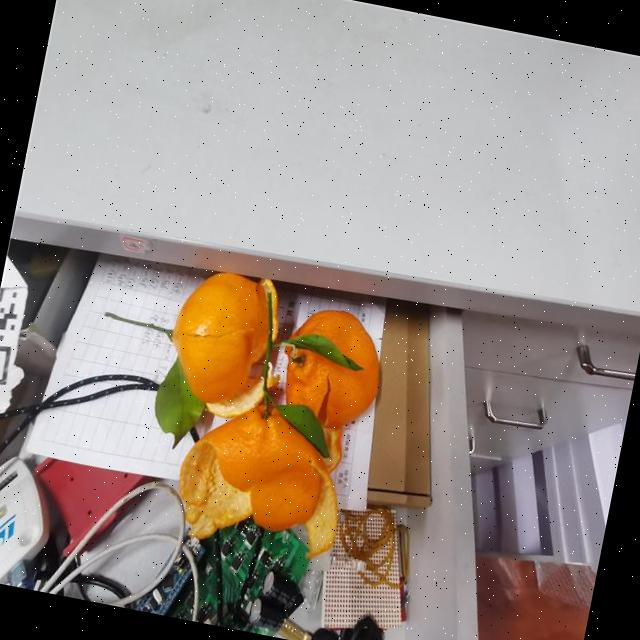orange-peel: (132, 261, 397, 568), (158, 261, 290, 416), (270, 299, 392, 436)
